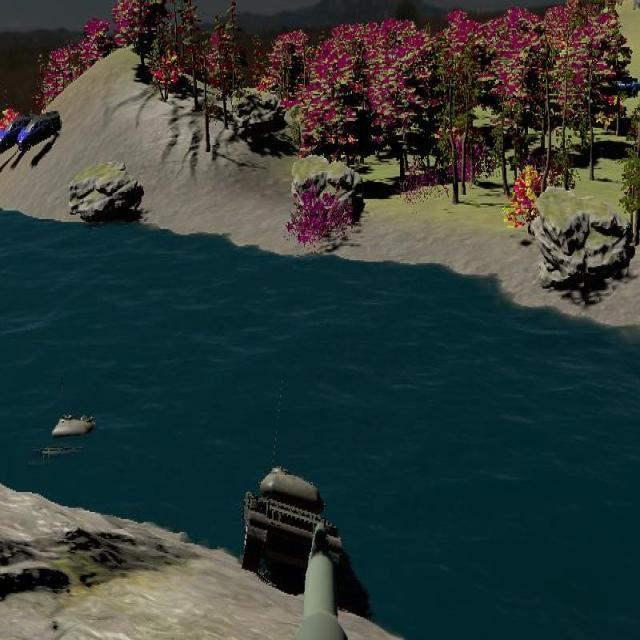Tank: (241, 462, 346, 598)
car: (17, 111, 62, 156), (0, 114, 35, 154)
